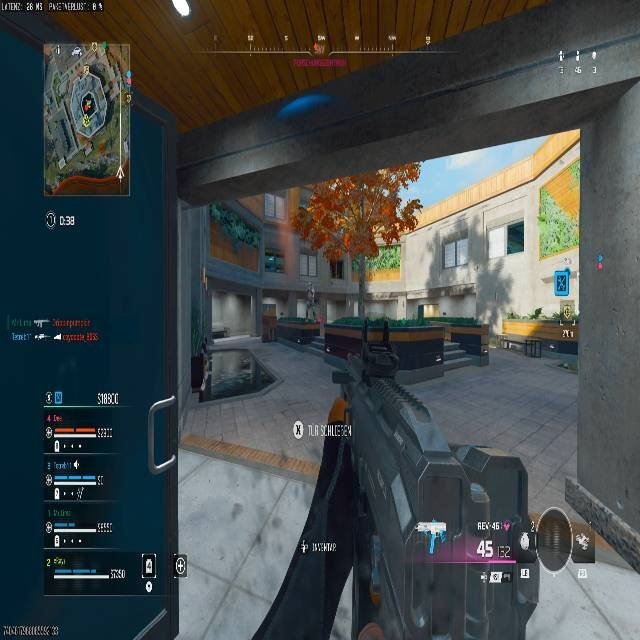player: (261, 307, 277, 342)
